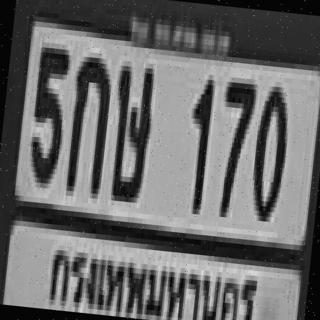A01: (63, 51, 112, 189)
A39: (105, 55, 155, 198)
N00: (247, 80, 291, 218)
N01: (182, 73, 212, 209)
N05: (26, 42, 70, 179)
N07: (212, 76, 256, 214)
P04: (40, 236, 264, 320)
